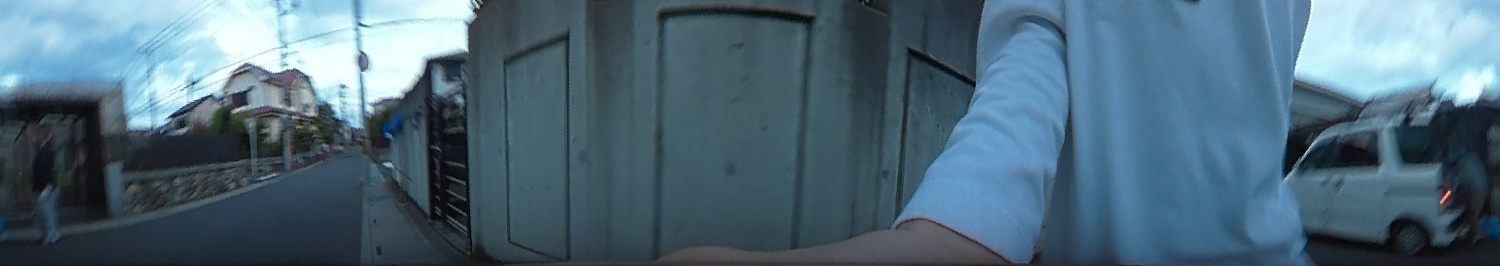person: (28, 118, 66, 248)
